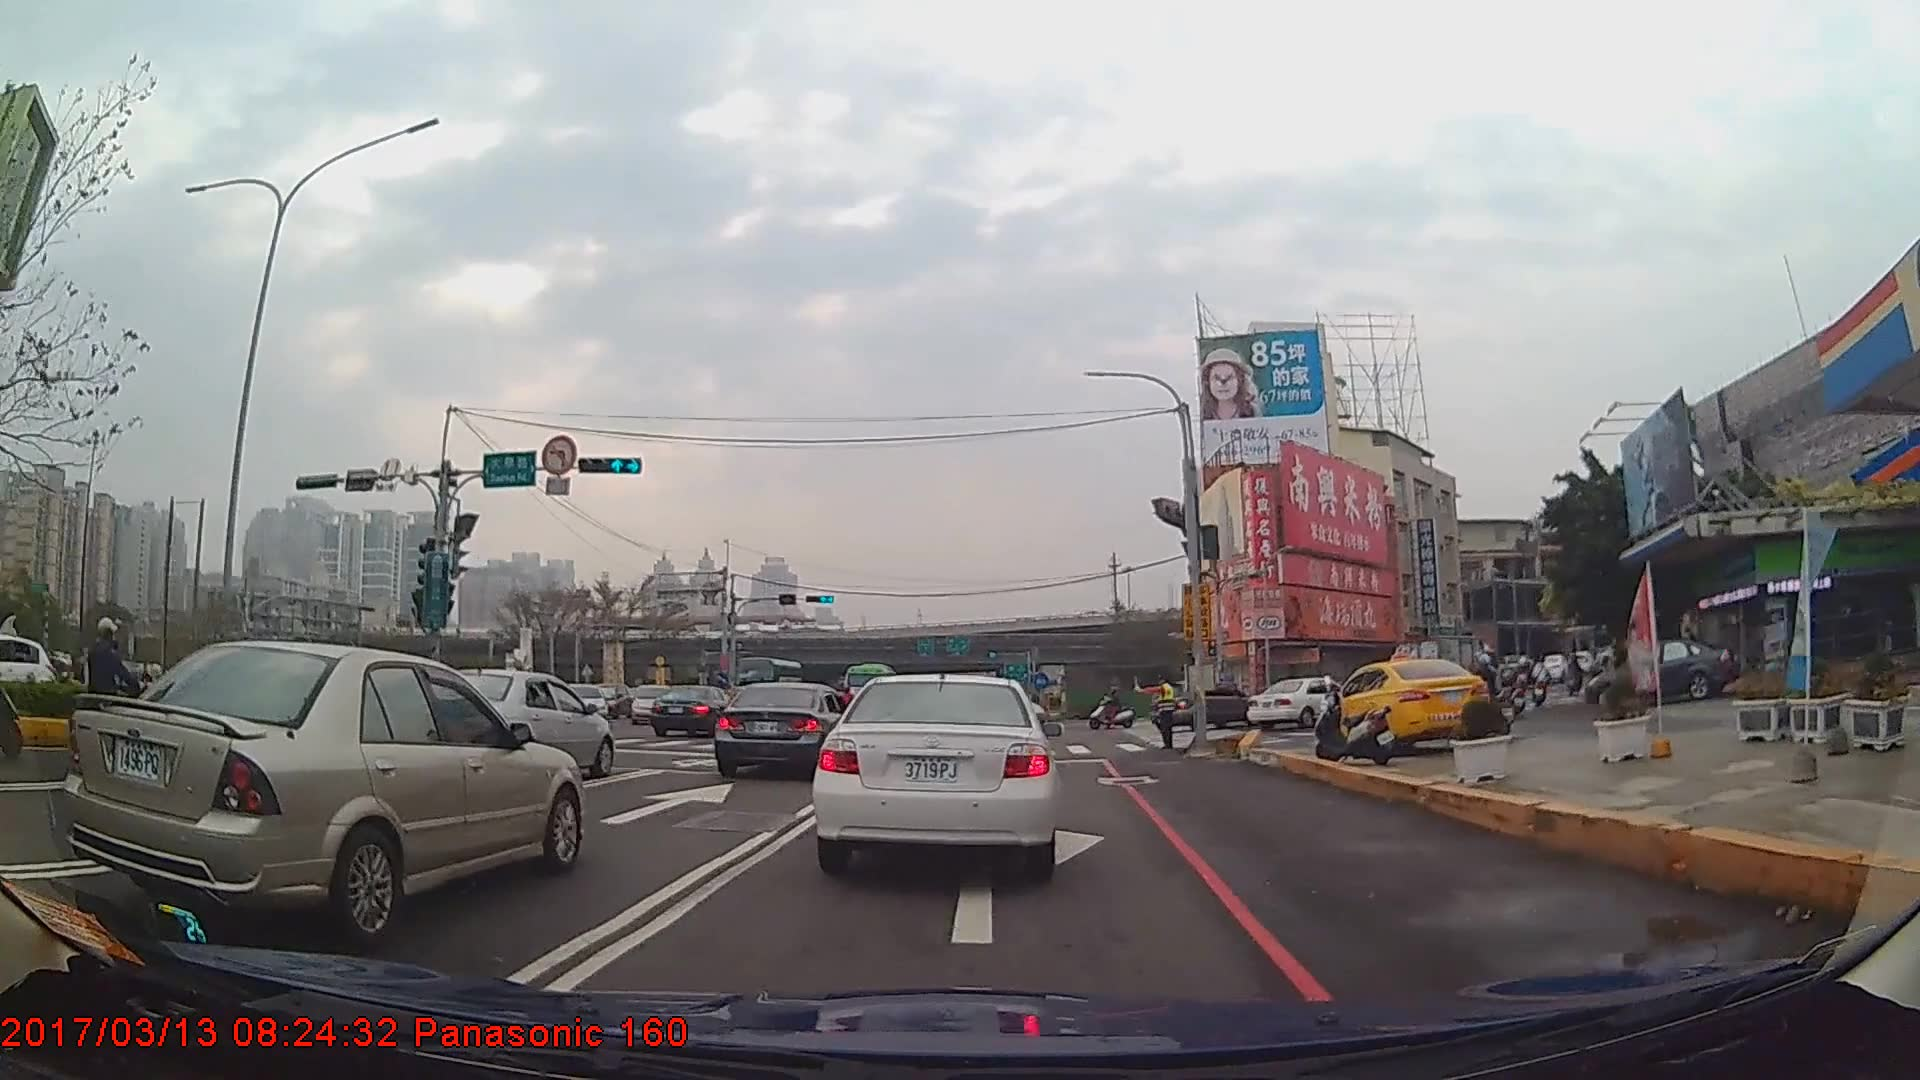pedestrian: (1130, 676, 1178, 753)
rider: (68, 616, 161, 775), (1468, 653, 1511, 736), (1091, 687, 1135, 733), (1505, 651, 1532, 719)
vehicle: (73, 632, 586, 932), (817, 665, 1057, 877), (417, 667, 614, 776), (1316, 655, 1492, 756), (712, 677, 855, 774), (1582, 635, 1737, 708), (1389, 633, 1502, 700), (1147, 677, 1261, 731), (1247, 676, 1354, 730), (651, 682, 744, 736), (0, 630, 56, 712), (840, 661, 897, 715), (630, 682, 672, 725)
